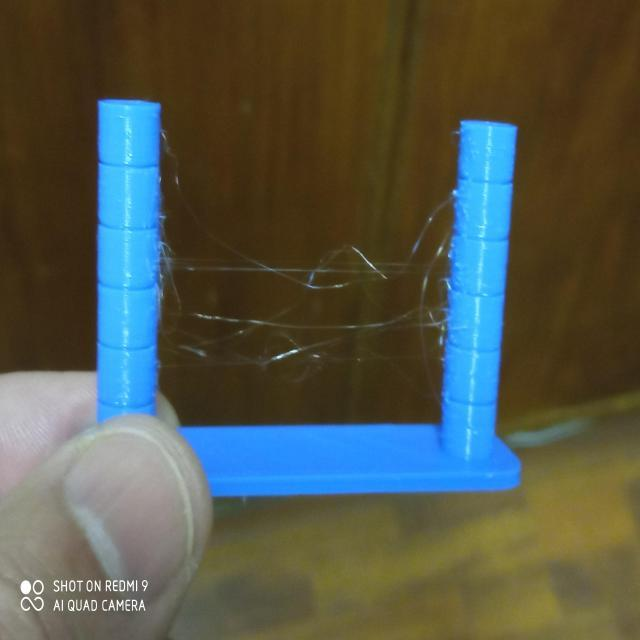Stringing: (156, 228, 442, 384)
